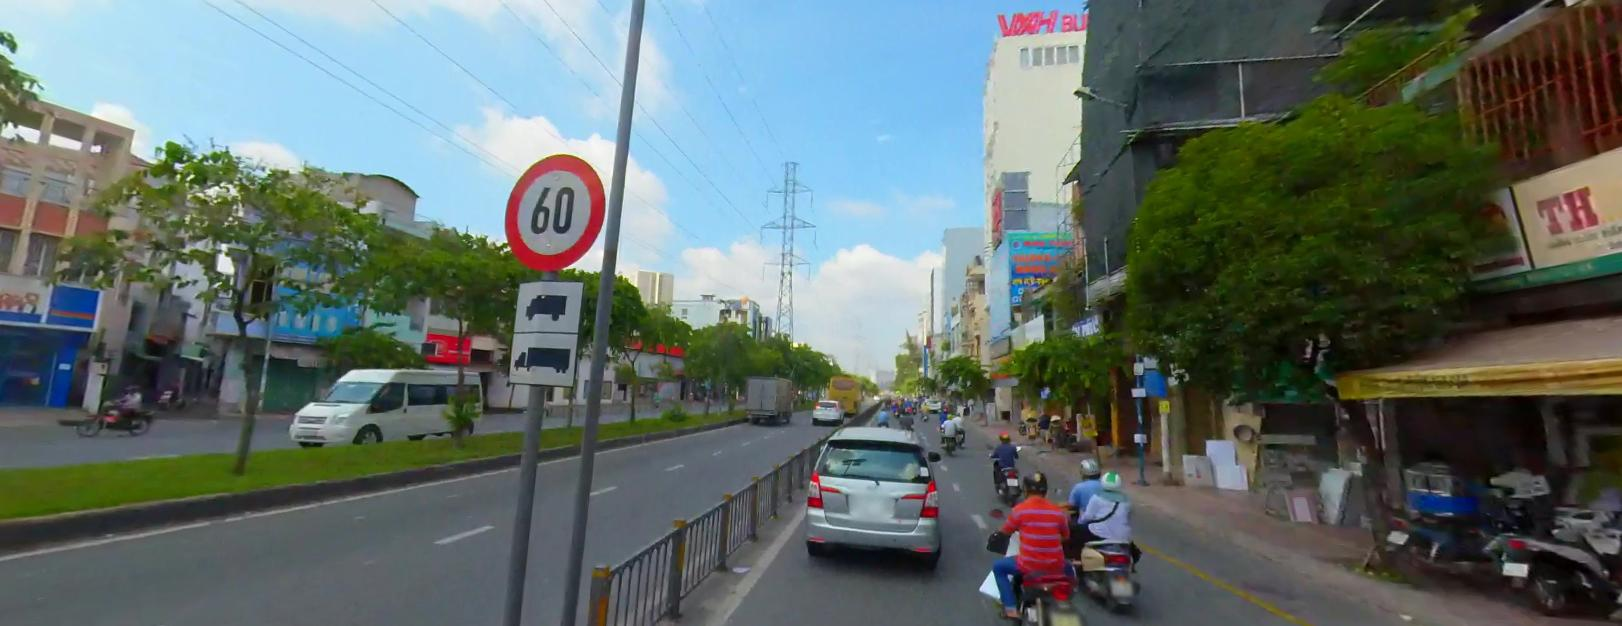Gioi han toc do: (501, 152, 606, 271)
